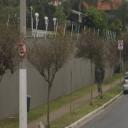NoEstacionar: (16, 38, 27, 60), (116, 38, 125, 52)
